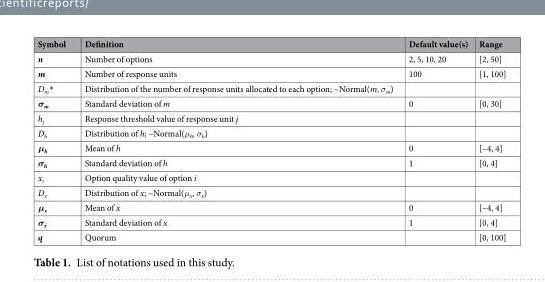table: (36, 37, 505, 242)
table column: (74, 37, 400, 242), (400, 37, 472, 242), (36, 37, 74, 242), (472, 37, 505, 242)
table column header: (36, 37, 505, 50)
table row: (36, 50, 505, 65), (36, 65, 505, 80), (36, 80, 505, 95), (36, 95, 505, 110), (36, 110, 505, 125), (36, 125, 505, 140), (36, 140, 505, 155), (36, 155, 505, 170), (36, 184, 505, 199), (36, 199, 505, 214), (36, 214, 505, 229), (36, 170, 505, 184), (36, 37, 505, 50), (36, 229, 505, 242)
